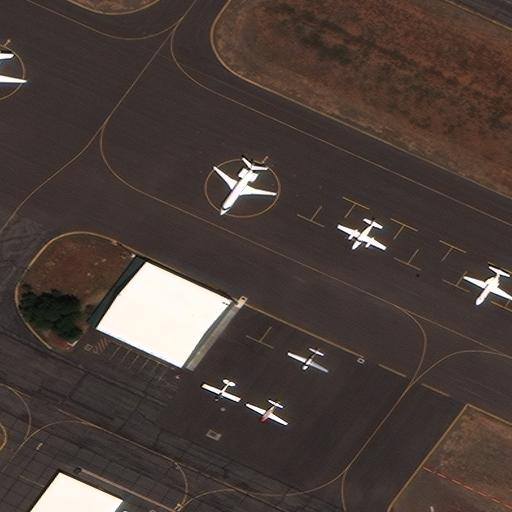Medium Civil Transport: (212, 163, 275, 214)
Small Civil Transport: (462, 269, 512, 305), (336, 219, 384, 251), (287, 348, 326, 373), (245, 402, 285, 425), (200, 381, 238, 402)
